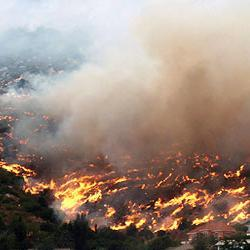fire: (59, 182, 103, 209), (225, 202, 248, 227), (164, 195, 198, 204)
smoke: (88, 72, 242, 138)
